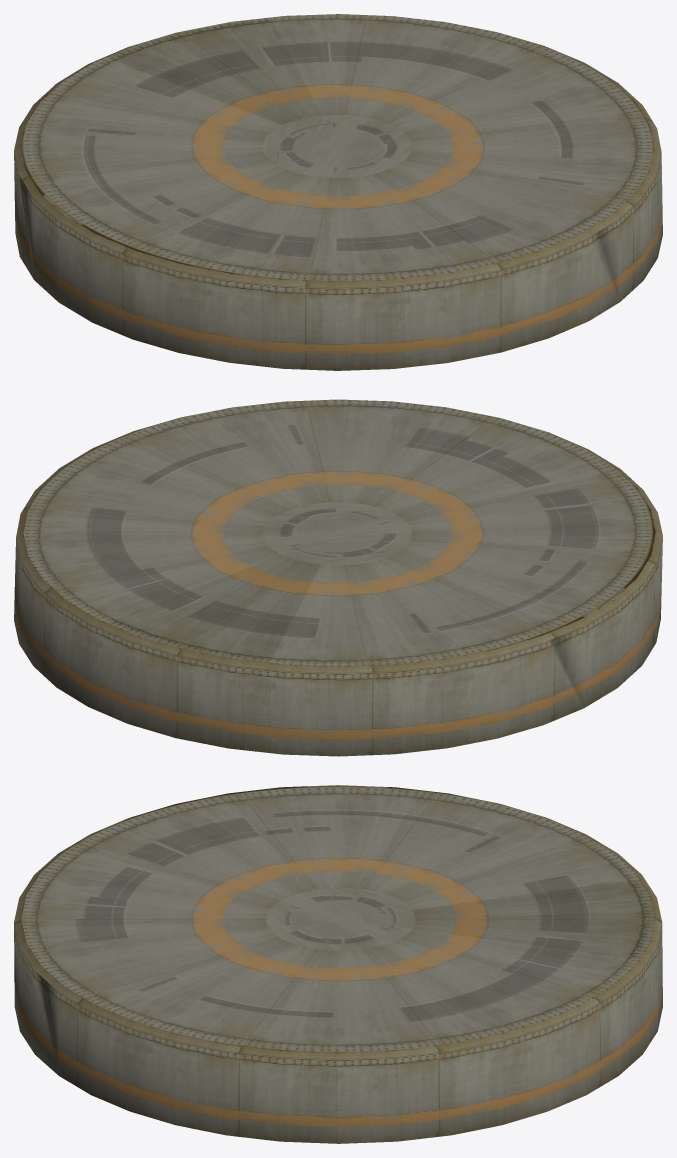
The model's file is tank_ring.glb.
The picture shows the model from 3 angles, top to bottom: view 1: azimuth 30°, elevation 25°; view 2: azimuth 150°, elevation 25°; view 3: azimuth 270°, elevation 25°; orthographic projection.
Parts seen in each view (by area): view 1: mesh_50_Mesh_tank_a_subset_0, mesh_50_Mesh_tank_a_subset_1; view 2: mesh_50_Mesh_tank_a_subset_0, mesh_50_Mesh_tank_a_subset_1; view 3: mesh_50_Mesh_tank_a_subset_0, mesh_50_Mesh_tank_a_subset_1.
Boxes of the visible parts, <box> form: mesh_50_Mesh_tank_a_subset_0: <box>21,14,654,281</box>; mesh_50_Mesh_tank_a_subset_1: <box>14,32,662,370</box>; mesh_50_Mesh_tank_a_subset_0: <box>23,399,655,666</box>; mesh_50_Mesh_tank_a_subset_1: <box>14,417,662,756</box>; mesh_50_Mesh_tank_a_subset_0: <box>21,785,654,1052</box>; mesh_50_Mesh_tank_a_subset_1: <box>14,803,662,1143</box>.
Size of the model in its own units: 29.95 by 4.43 by 29.89.
2 materials, 2 textured.
